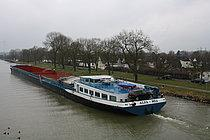Ship: (9, 59, 170, 117)
